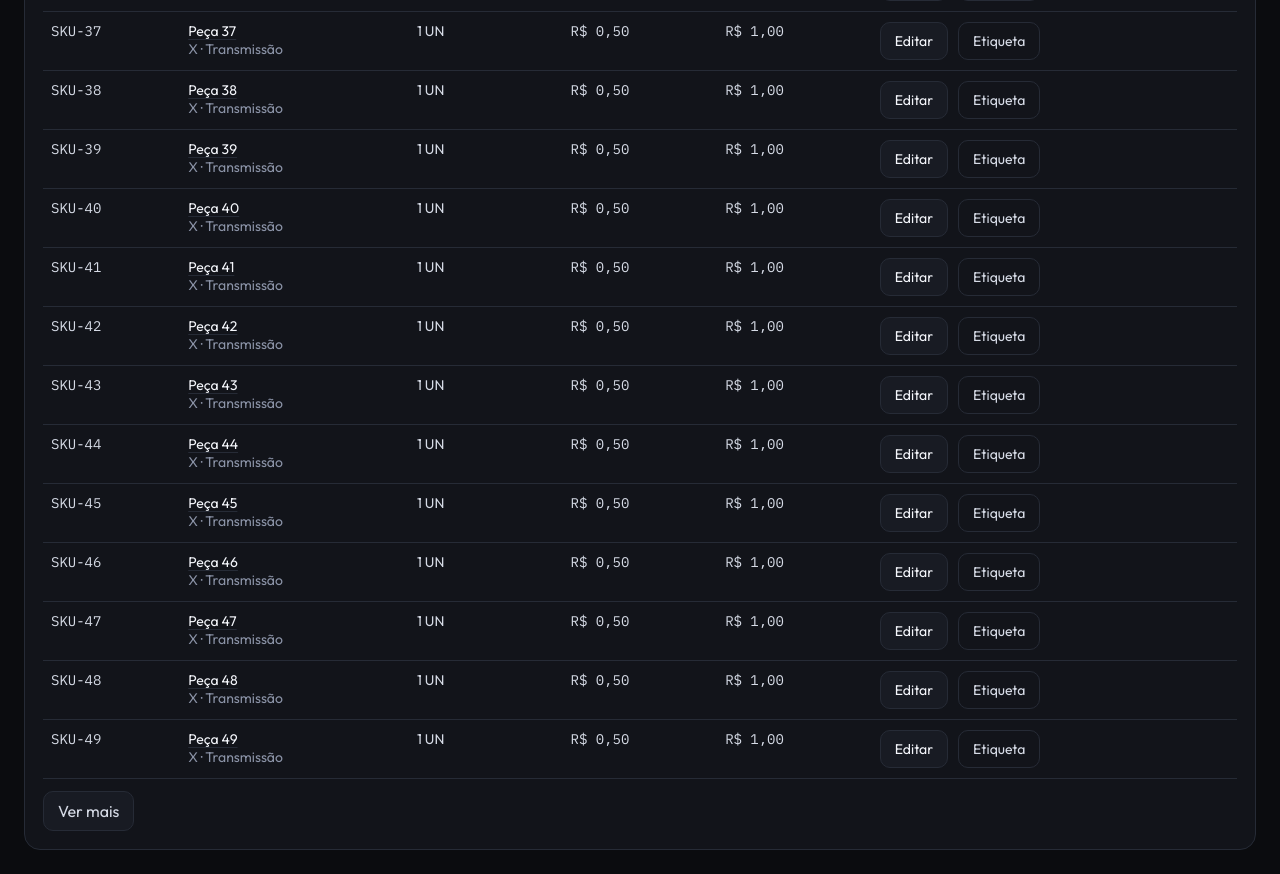
Test case: Produtos › pede a próxima página em Ver mais
(page scrolled)
Click the button "Ver mais" at (89, 811), box [43, 791, 134, 831]
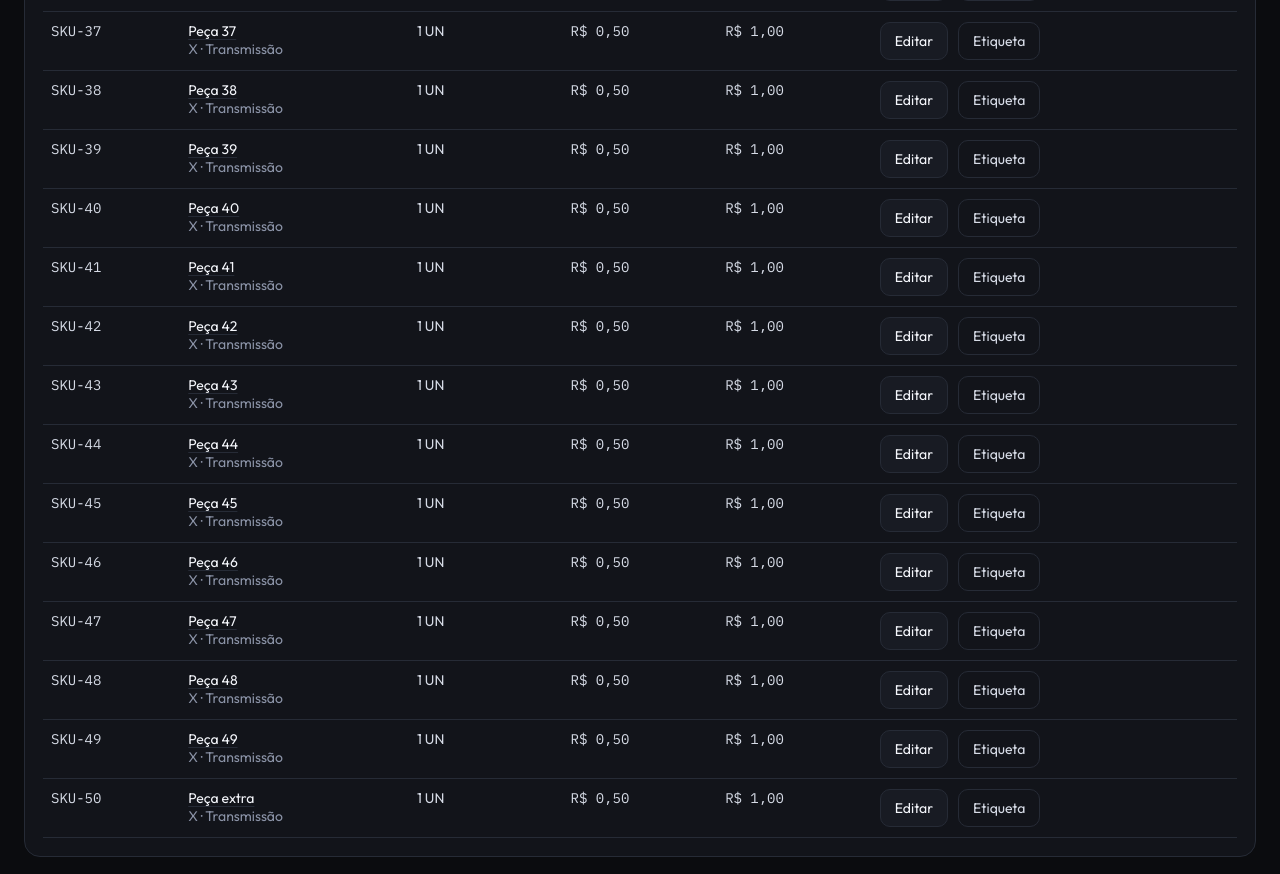
Expected: the link "Peça extra" is shown, [188, 789, 254, 807]
